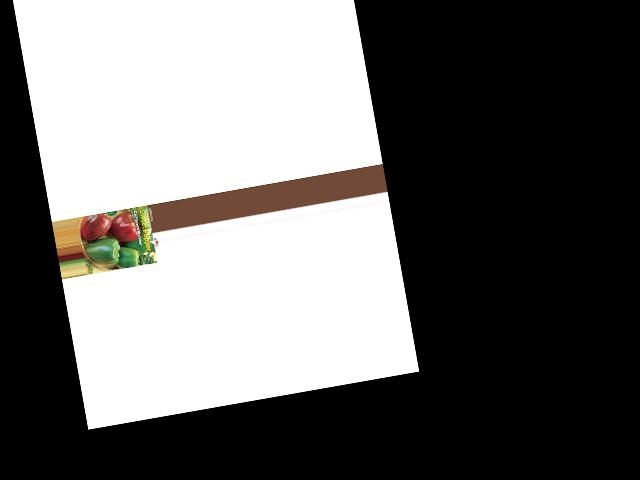bell_pepper: (109, 246, 143, 271)
